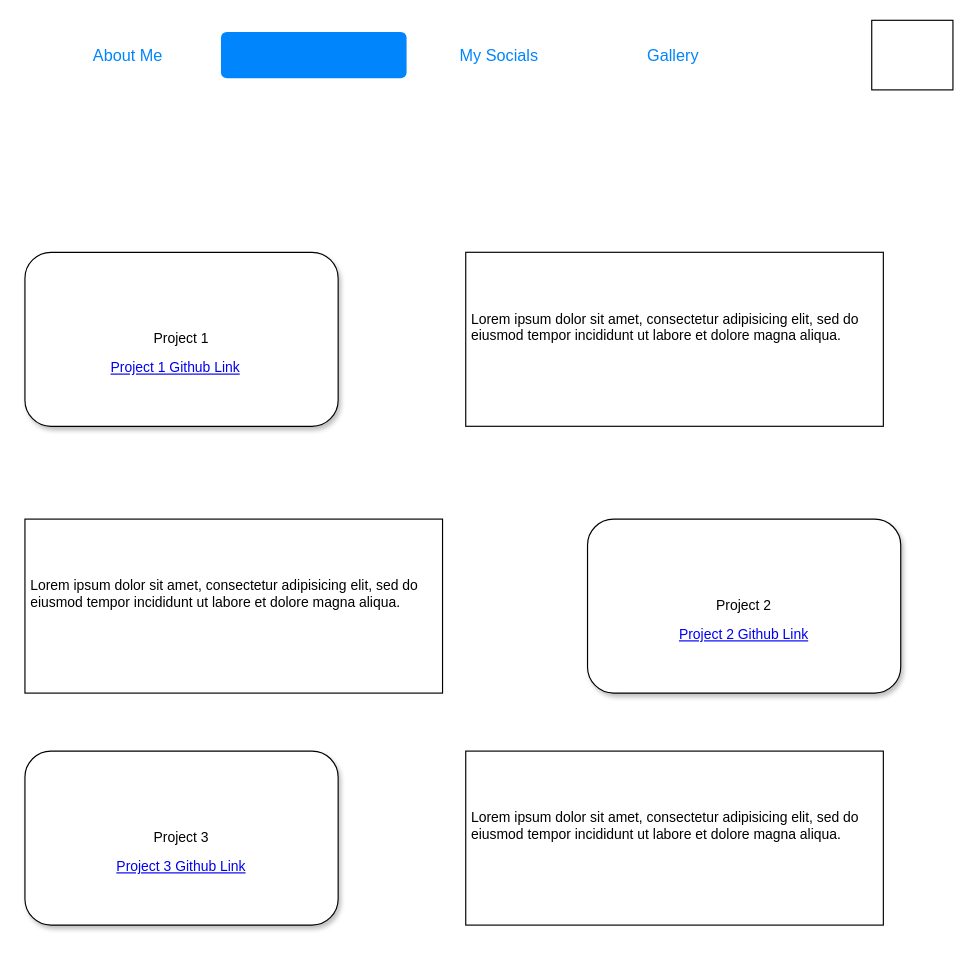
Image size: 973x954. Some labels were removed from this diagram. Here are the shapes that lost their labels. From the top down, the centre of each, then its label:
At (313,54): "My Projects".
At (912,54): "WJB".
